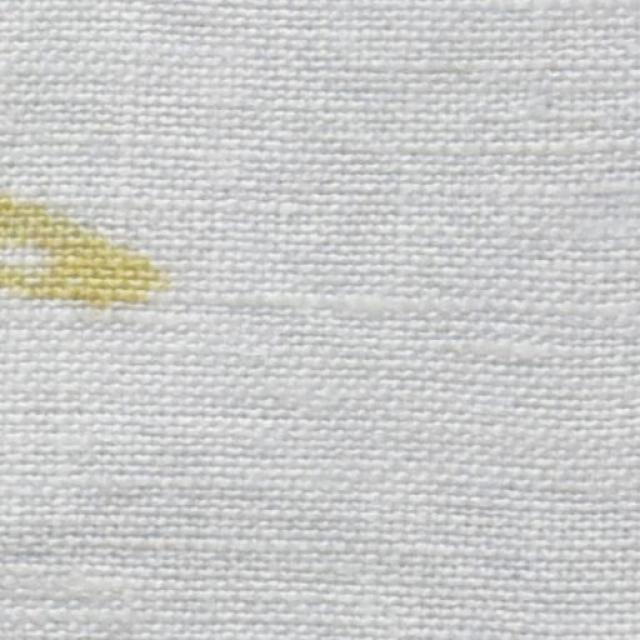Stain: (0, 178, 169, 308)
